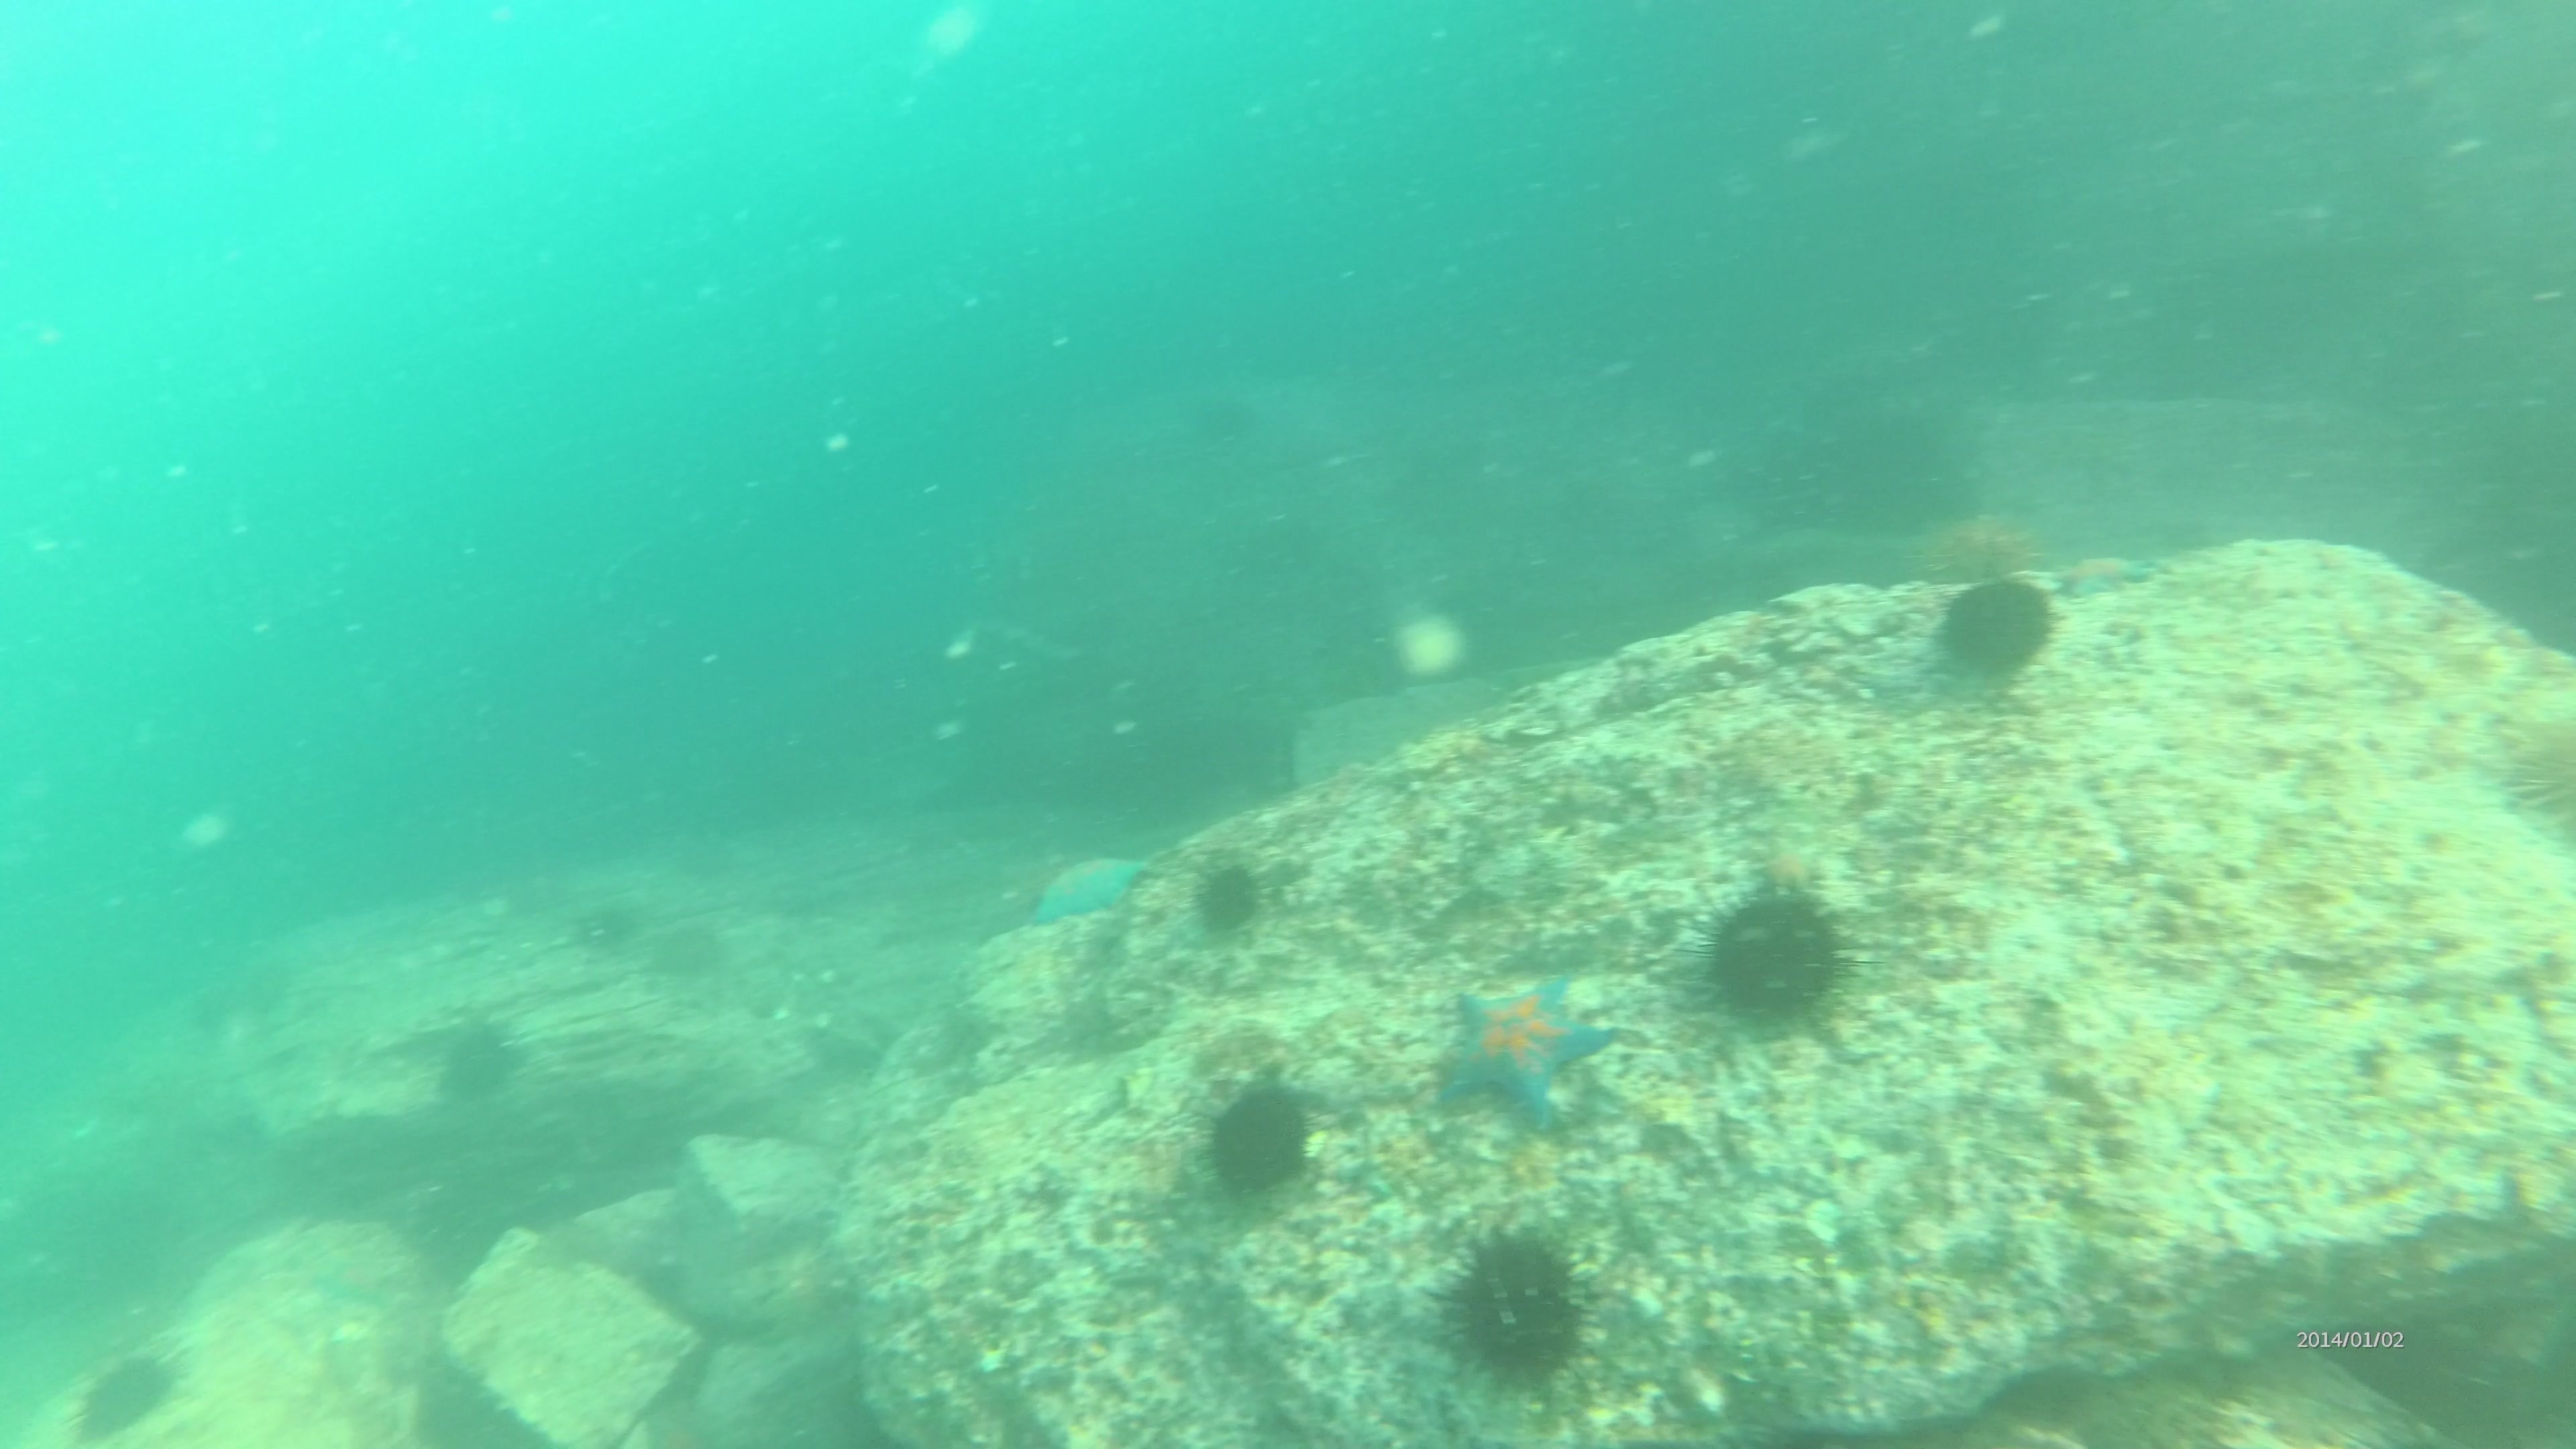echinus: (1431, 1223, 1599, 1389), (1691, 879, 1859, 1035), (1194, 1072, 1323, 1205), (1930, 570, 2059, 686), (1909, 504, 2049, 591), (67, 1343, 186, 1442), (2495, 706, 2576, 846), (428, 1008, 529, 1111), (1184, 849, 1272, 943), (640, 911, 732, 989), (564, 892, 644, 959)
starfish: (1433, 968, 1619, 1122), (1026, 847, 1155, 931), (303, 1256, 416, 1315), (2049, 545, 2158, 602)
